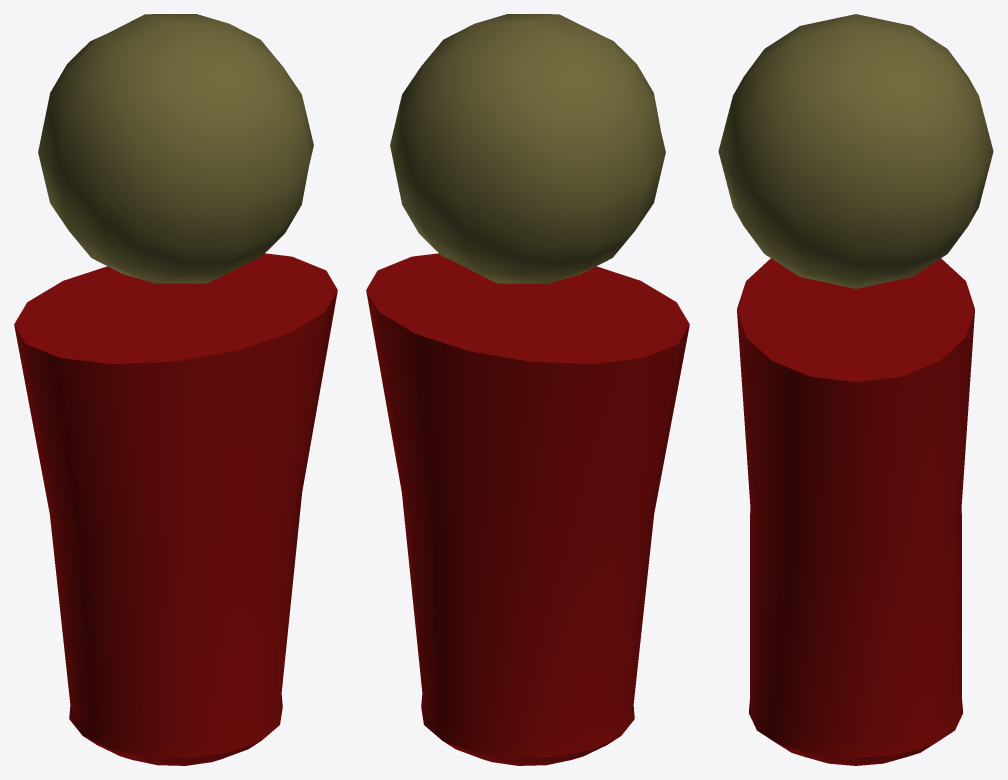
Rendered from Personagem8.fbx.
3 views of the same model, side by side, from view 1: azimuth 30°, elevation 25°; view 2: azimuth 150°, elevation 25°; view 3: azimuth 270°, elevation 25° (orthographic).
Parts seen in each view (by area): view 1: Sphere.006; view 2: Sphere.006; view 3: Sphere.006.
Boxes of the visible parts, bbox=[...] form: Sphere.006: bbox=[14, 14, 337, 765]; Sphere.006: bbox=[366, 14, 689, 765]; Sphere.006: bbox=[718, 14, 993, 765].
Bounding box in the file's own units: 268 × 618 × 213.
